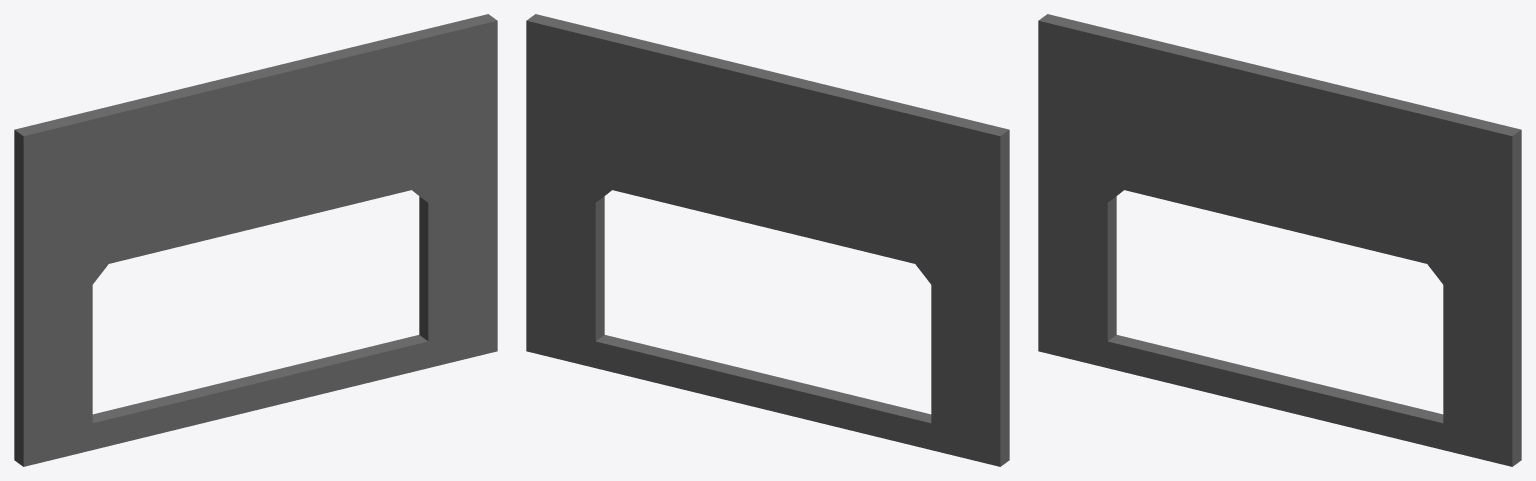
File: SM_Floor_RoadPart_05.fbx
3 renders of one model, left to right at view 1: azimuth 30°, elevation 25°; view 2: azimuth 150°, elevation 25°; view 3: azimuth 330°, elevation 25°, orthographic.
Visible parts, largest first — view 1: SM_Floor_RoadPart_05; view 2: SM_Floor_RoadPart_05; view 3: SM_Floor_RoadPart_05.
Boxes of the visible parts, left/top/right/bottom form: SM_Floor_RoadPart_05: left=14, top=14, right=497, bottom=466; SM_Floor_RoadPart_05: left=526, top=14, right=1009, bottom=466; SM_Floor_RoadPart_05: left=1038, top=14, right=1521, bottom=466.
Size of the model in its own units: 15 by 10 by 0.5.
